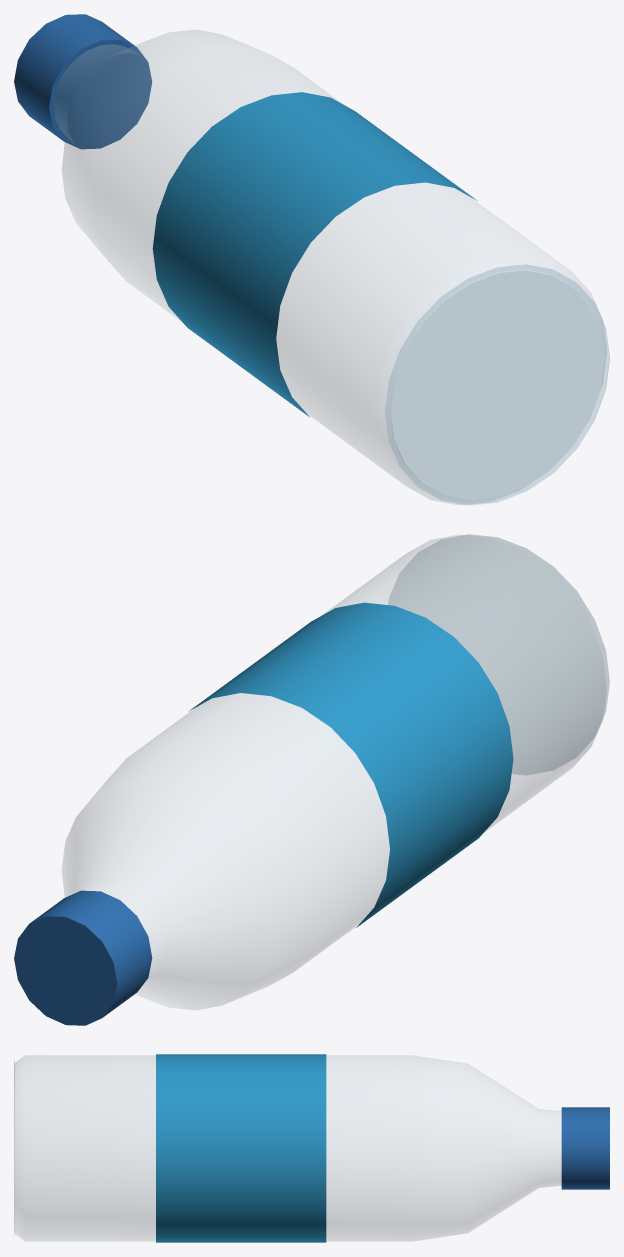
The model's file is water_bottle.glb.
3 renders of one model, top to bottom at view 1: azimuth 30°, elevation 25°; view 2: azimuth 150°, elevation 25°; view 3: azimuth 270°, elevation 25°, orthographic. The views are drawn at different scales.
Visible parts, largest first — view 1: water_bottle; view 2: water_bottle; view 3: water_bottle.
Part boxes in pixels (x1,y1,x2,y2): water_bottle: (14,14,609,505); water_bottle: (14,534,609,1025); water_bottle: (14,1054,609,1242).
Bounding box in the file's own units: 0.0698 × 0.0698 × 0.22.
